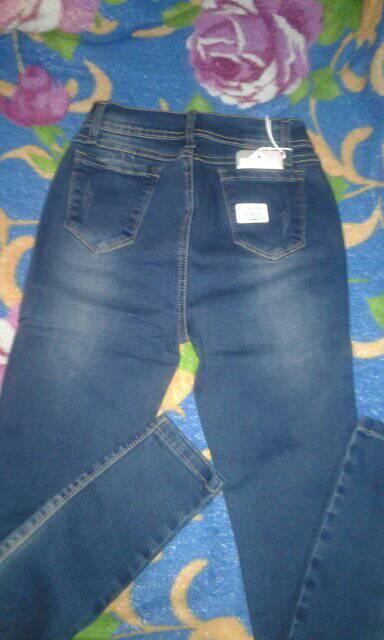Jeans: (0, 93, 384, 640)
